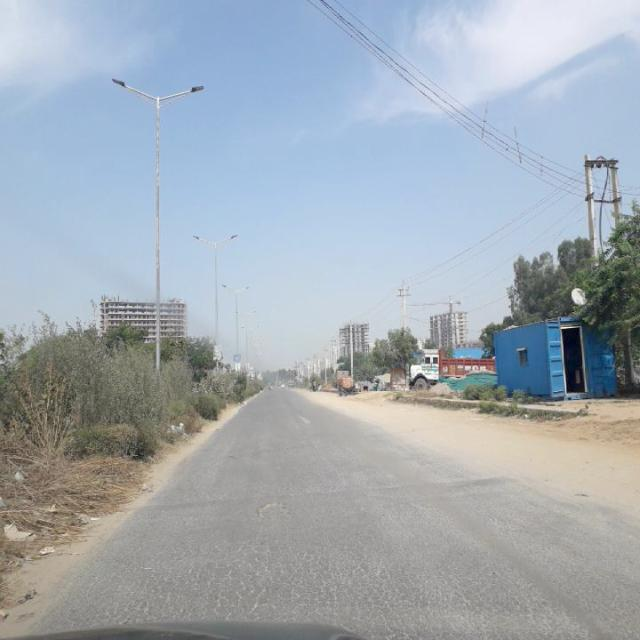crack: (78, 516, 616, 622)
pothole: (255, 495, 293, 518)
